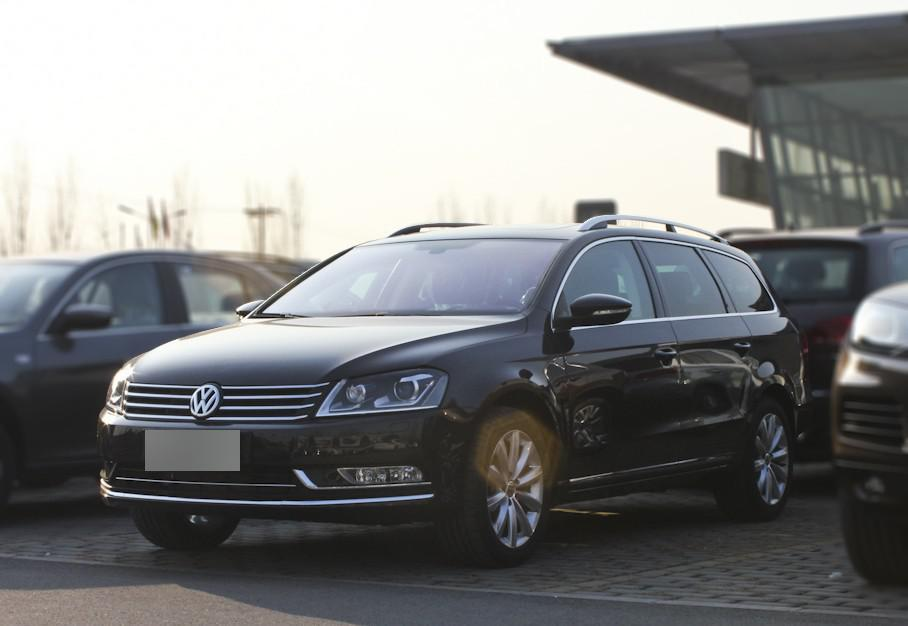Wagon: (94, 214, 806, 570)
